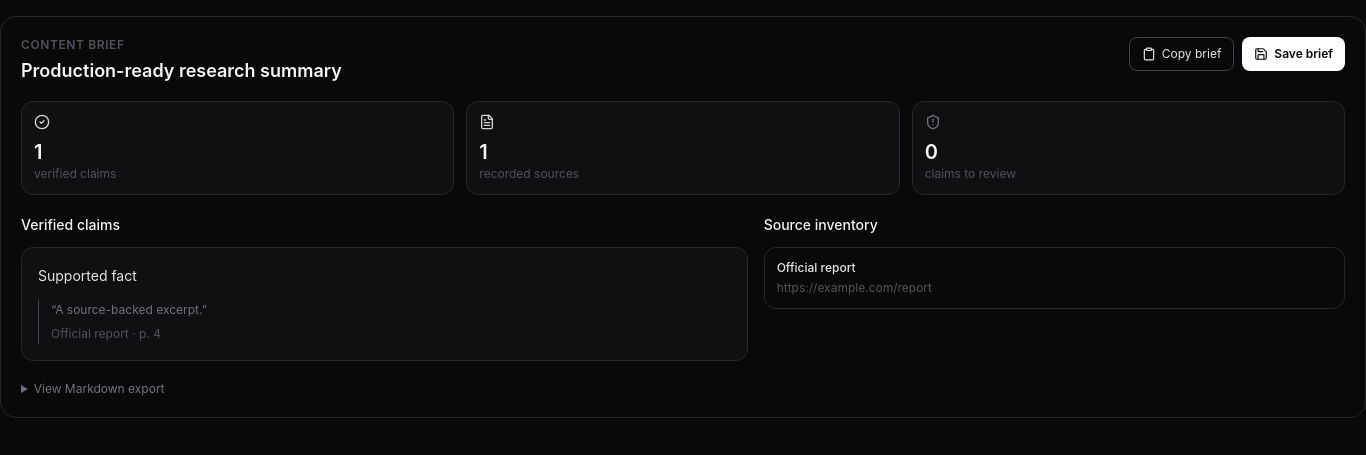
Test: ResearchBriefPanel › saves a production brief for the selected workspace and project
This screenshot has width=1366, height=455.
Expected: the text "Supported fact" is shown, [38, 267, 137, 284]
Click the button "Save brief" at {"x": 1294, "y": 54}, box [1242, 37, 1345, 71]
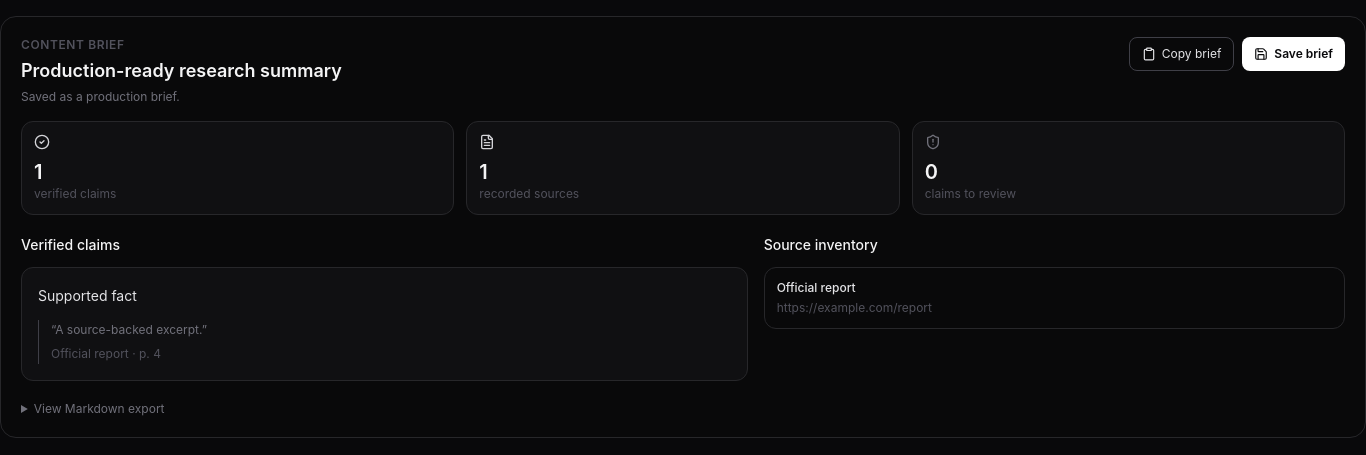
Now the text "Saved as a production brief." is shown, box [21, 89, 180, 104]
